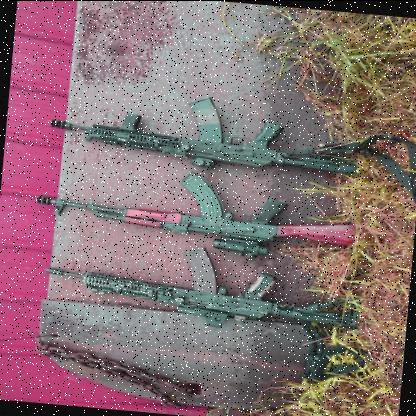rifle: (33, 75, 371, 180), (31, 166, 369, 261), (39, 238, 351, 326)
